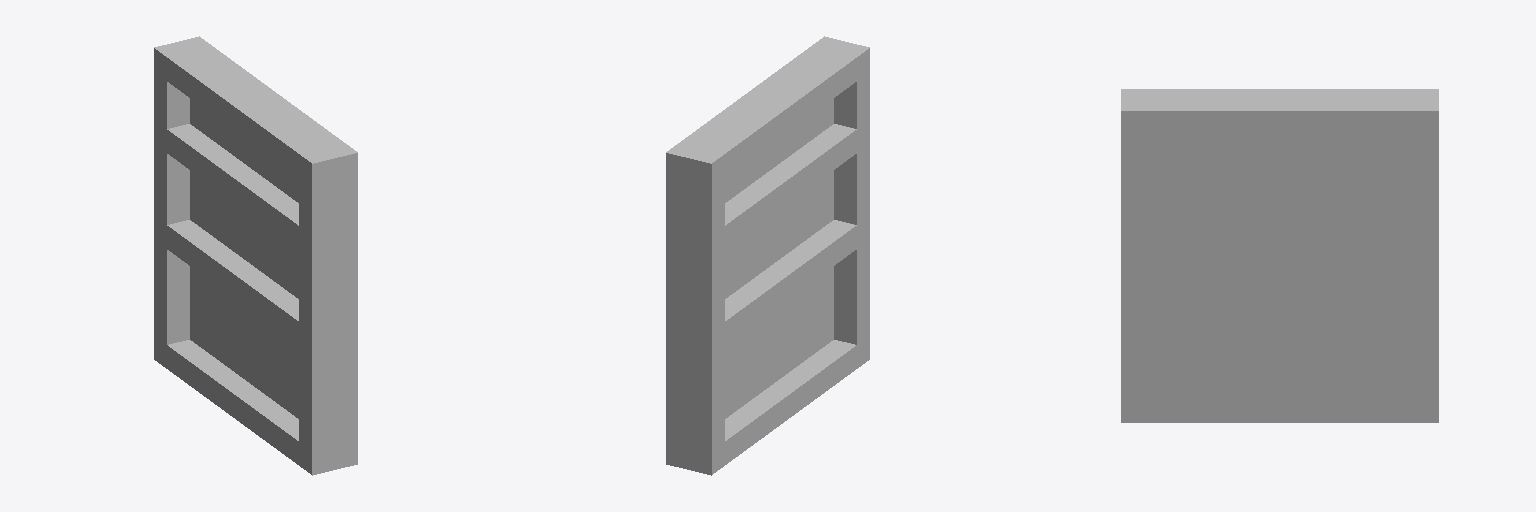
Rendered from Edificio Rojo-4-Window2.obj.
3 renders of one model, left to right at view 1: azimuth 30°, elevation 25°; view 2: azimuth 150°, elevation 25°; view 3: azimuth 270°, elevation 25°, orthographic.
Visible parts, largest first — view 1: Window2; view 2: Window2; view 3: Window2.
Part boxes in pixels (bbox=[...]): Window2: bbox=[154, 36, 357, 475]; Window2: bbox=[666, 36, 869, 475]; Window2: bbox=[1121, 89, 1438, 422].
Size of the model in its own units: 0.2 by 1.3 by 1.2.